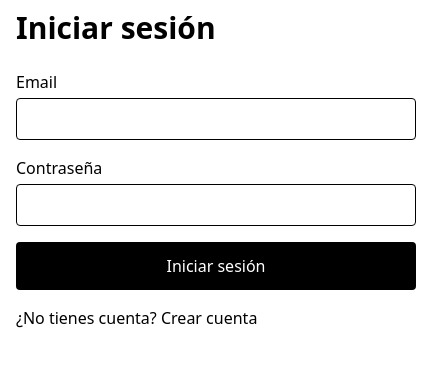
formulario de login › muestra el error de credenciales incorrectas
The width and height of the screenshot is (433, 385).
Type "test@example.com" into the field labelled "Email" at (216, 119), box [16,98,416,140]
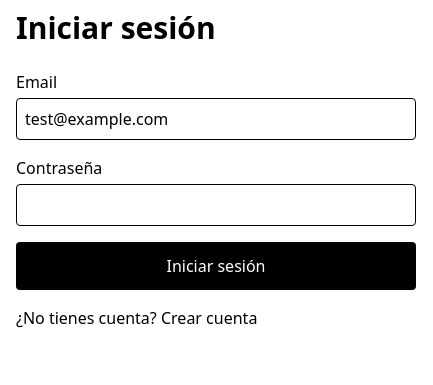
Type "incorrecta123" into the password field labelled "Contraseña" at (216, 205), box [16,184,416,226]
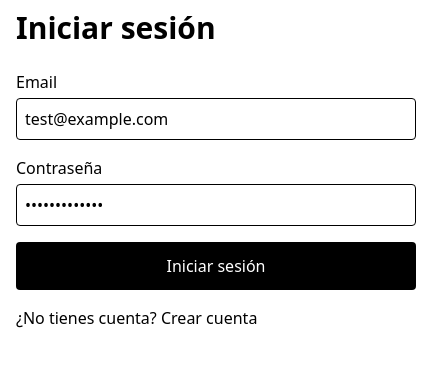
Click the button "Iniciar sesión" at (216, 266), box [16,242,416,290]
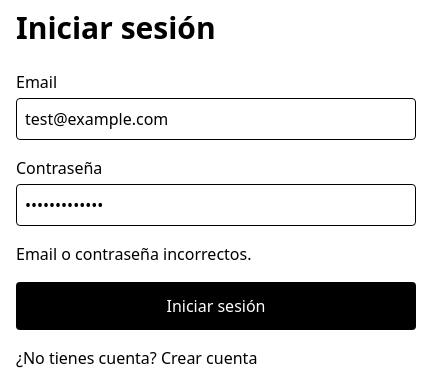
Expected: the message reads "Email o contraseña incorrectos.", [16,243,252,265]
